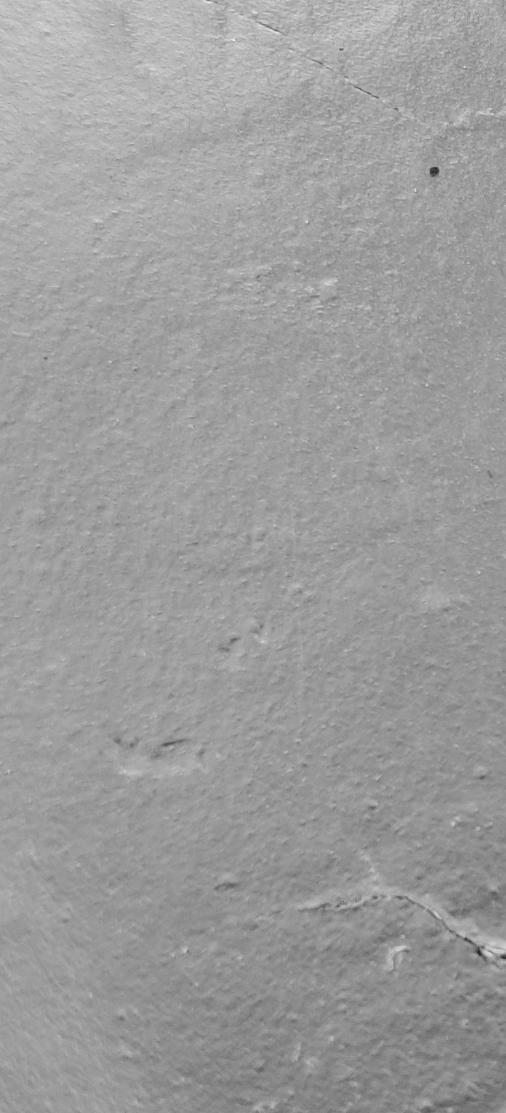crack: (1, 1, 506, 1113)
